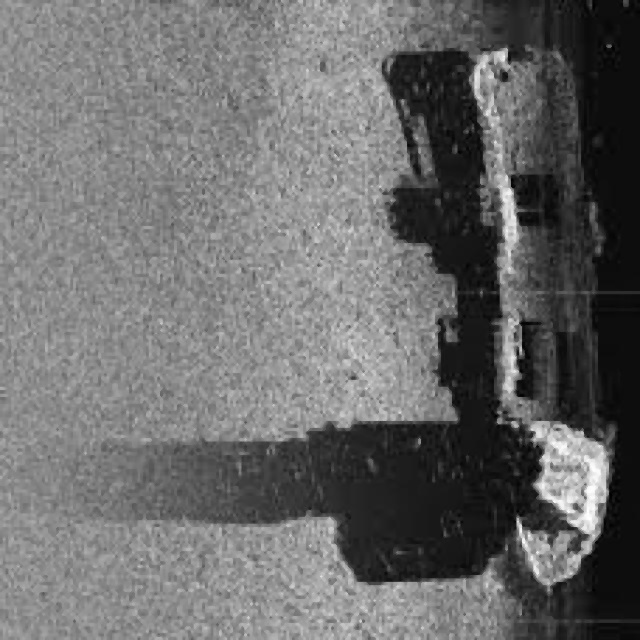Ship: (445, 23, 629, 614)
